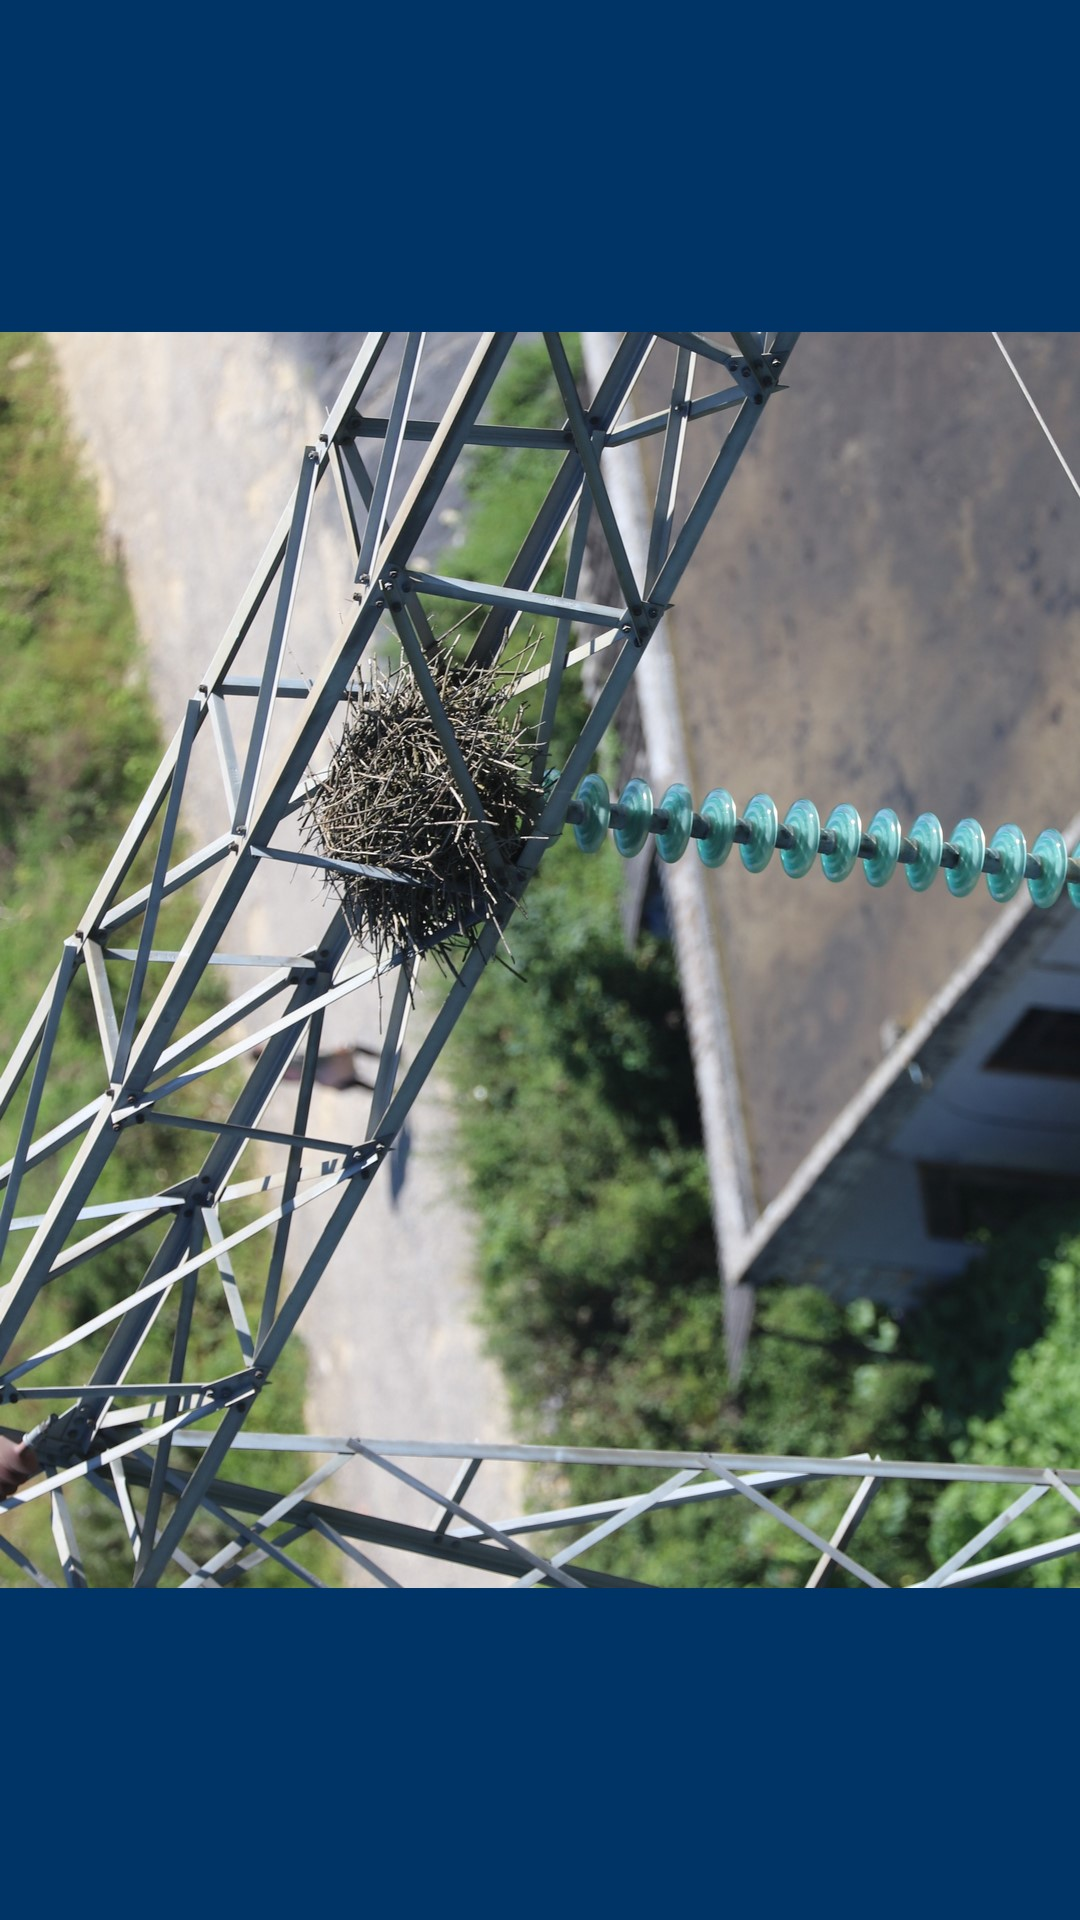niaowo: (266, 650, 585, 969)
